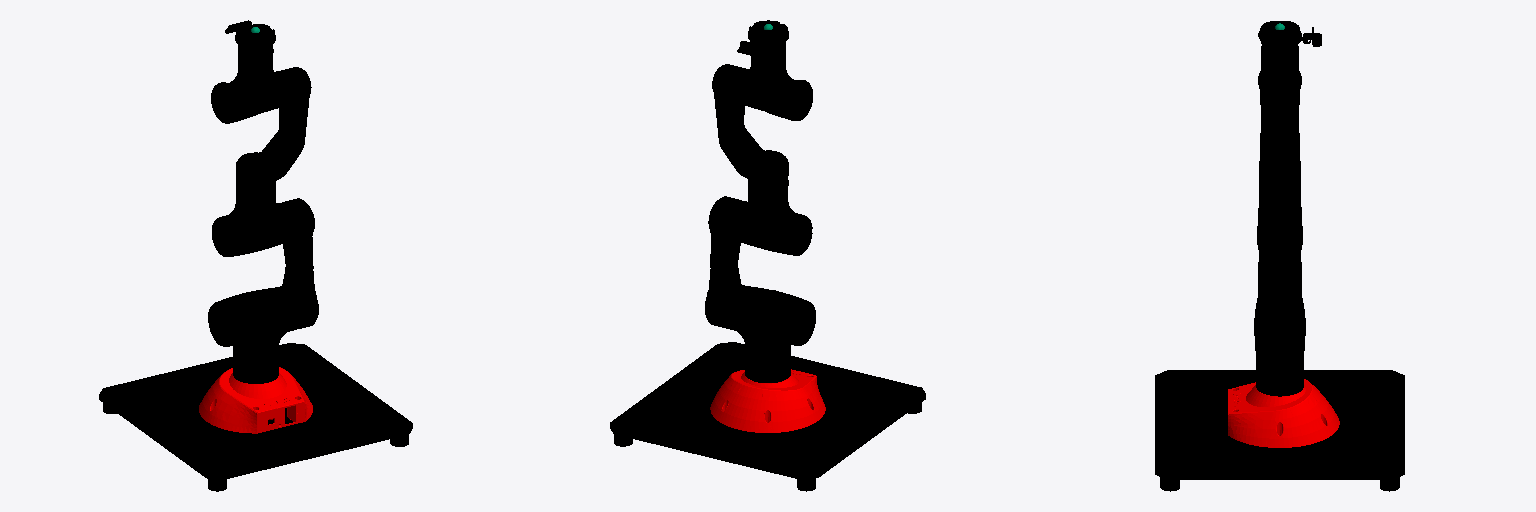
robot.urdf — mara:
<?xml version="1.0" ?>
<!-- =================================================================================== -->
<!-- |    This document was autogenerated by xacro from ros2_mara_ws/src/mara/mara_description/urdf/mara_robot_camera.urdf.xacro | -->
<!-- |    EDITING THIS FILE BY HAND IS NOT RECOMMENDED                                 | -->
<!-- =================================================================================== -->
<robot name="mara" xmlns:xacro="http://ros.org/wiki/xacro">
  <!--
  Author: [author]
-->
  <link name="base_link">
    <inertial>
      <origin rpy="0 0 0" xyz="8.625E-08 -4.6583E-06 0.03145"/>
      <mass value="7.033"/>
      <inertia ixx="0.1478344" ixy="-0.00001" ixz="0.0" iyy="0.14782335" iyz="0.0" izz="0.29471799"/>
    </inertial>
    <visual>
      <origin rpy="0 0 0" xyz="0 0 0"/>
      <geometry>
        <mesh filename="package://mara_description/meshes/Base_plancha.dae" scale="0.001 0.001 0.001"/>
      </geometry>
      <material name="Gazebo/Grey">
        <color rgba="0. 0. 0. 1"/>
      </material>
    </visual>
    <collision>
      <origin rpy="0 0 0" xyz="0 0 0"/>
      <geometry>
        <mesh filename="package://mara_description/meshes/Base_plancha.dae" scale="0.001 0.001 0.001"/>
      </geometry>
    </collision>
  </link>
  <gazebo reference="base_link">
    <material>Gazebo/Grey</material>
    <selfCollide>True</selfCollide>
  </gazebo>
  <link name="base_robot">
    <inertial>
      <origin rpy="0 0 0" xyz="8.625E-08 -4.6583E-06 0.03145"/>
      <mass value="7.033"/>
      <inertia ixx="0.1478344" ixy="0.00001" ixz="0.0" iyy="0.14782335" iyz="0.0" izz="0.29471799"/>
    </inertial>
    <visual>
      <origin rpy="0 0 0" xyz="0 0 0"/>
      <geometry>
        <mesh filename="package://mara_description/meshes/Base.dae" scale="0.001 0.001 0.001"/>
      </geometry>
      <material name="Gazebo/Black">
        <color rgba="1. 0. 0. 1.0"/>
      </material>
    </visual>
    <collision>
      <origin rpy="0 0 0" xyz="0 0 0"/>
      <geometry>
        <mesh filename="package://mara_description/meshes/Base.dae" scale="0.001 0.001 0.001"/>
      </geometry>
    </collision>
  </link>
  <gazebo reference="base_robot">
    <material>Gazebo/Black</material>
    <selfCollide>True</selfCollide>
  </gazebo>
  <link name="motor1_link">
    <inertial>
      <origin rpy="0 0 0" xyz="0.02066 0 0.12051"/>
      <mass value="5.6"/>
      <inertia ixx="0.0200769278" ixy="-7.72273E-006" ixz="0.0050158708" iyy="0.0257088151" iyz="5.49229E-006" izz="0.0120821377"/>
    </inertial>
    <visual>
      <origin rpy="0 0 0" xyz="0 0 0"/>
      <geometry>
        <mesh filename="package://mara_description/meshes/MARA_T49.dae" scale="0.001 0.001 0.001"/>
      </geometry>
      <material name="Gazebo/White">
        <color rgba="0. 0. 0. 1"/>
      </material>
    </visual>
    <collision>
      <origin rpy="0 0 0" xyz="0 0 0"/>
      <geometry>
        <mesh filename="package://mara_description/meshes/MARA_T49.dae" scale="0.001 0.001 0.001"/>
      </geometry>
    </collision>
  </link>
  <gazebo reference="motor1_link">
    <material>Gazebo/White</material>
    <selfCollide>True</selfCollide>
  </gazebo>
  <link name="motor1_cover">
    <inertial>
      <origin rpy="0 0 0" xyz="8.625E-08 -4.6583E-06 0.03145"/>
      <mass value="0.0"/>
      <inertia ixx="0.0" ixy="0.0" ixz="0.0" iyy="0.0" iyz="0.0" izz="0.0"/>
    </inertial>
    <visual>
      <origin rpy="0 0 0" xyz="0 0 0"/>
      <geometry>
        <mesh filename="package://mara_description/meshes/MARA_T49_Black.dae" scale="0.001 0.001 0.001"/>
      </geometry>
      <material name="Gazebo/Black">
        <color rgba="0. 0. 0. 1"/>
      </material>
    </visual>
    <collision>
      <origin rpy="0 0 0" xyz="0 0 0"/>
      <geometry>
        <mesh filename="package://mara_description/meshes/MARA_T49_Black.dae" scale="0.001 0.001 0.001"/>
      </geometry>
    </collision>
  </link>
  <gazebo reference="motor1_cover">
    <material>Gazebo/Black</material>
    <selfCollide>True</selfCollide>
  </gazebo>
  <link name="motor2_link">
    <inertial>
      <origin rpy="0 0 0" xyz="-0.01665 0.0 0.09639"/>
      <mass value="1.236"/>
      <inertia ixx="0.0079614839" ixy="0.000000037" ixz="-0.0003203013" iyy="0.007135338" iyz="-0.000001062" izz="0.001111114"/>
    </inertial>
    <visual>
      <origin rpy="0 0 0" xyz="0 0 0"/>
      <geometry>
        <mesh filename="package://mara_description/meshes/MARA_Link1.dae" scale="0.001 0.001 0.001"/>
      </geometry>
      <material name="Gazebo/Black">
        <color rgba="0. 0. 0. 1"/>
      </material>
    </visual>
    <collision>
      <origin rpy="0 0 0" xyz="0 0 0"/>
      <geometry>
        <mesh filename="package://mara_description/meshes/MARA_Link1.dae" scale="0.001 0.001 0.001"/>
      </geometry>
    </collision>
  </link>
  <gazebo reference="motor2_link">
    <material>Gazebo/Black</material>
    <selfCollide>True</selfCollide>
  </gazebo>
  <link name="motor3_link">
    <inertial>
      <origin rpy="0 0 0" xyz="-0.08963 0.0 0.0403"/>
      <mass value="3.95"/>
      <inertia ixx="0.0115136615" ixy="-1.231046E-005" ixz="-0.003148516" iyy="0.0149841676" iyz="-8.81378E-006" izz="0.0070387807"/>
    </inertial>
    <visual>
      <origin rpy="0 0 0" xyz="0 0 0"/>
      <geometry>
        <mesh filename="package://mara_description/meshes/MARA_T30.dae" scale="0.001 0.001 0.001"/>
      </geometry>
      <material name="Gazebo/White">
        <color rgba="0. 0. 0. 1"/>
      </material>
    </visual>
    <collision>
      <origin rpy="0 0 0" xyz="0 0 0"/>
      <geometry>
        <mesh filename="package://mara_description/meshes/MARA_T30.dae" scale="0.001 0.001 0.001"/>
      </geometry>
    </collision>
  </link>
  <gazebo reference="motor3_link">
    <material>Gazebo/White</material>
    <selfCollide>True</selfCollide>
  </gazebo>
  <link name="motor3_cover">
    <inertial>
      <origin rpy="0 0 0" xyz="8.625E-08 -4.6583E-06 0.03145"/>
      <mass value="0.0"/>
      <inertia ixx="0.0" ixy="0.0" ixz="0.0" iyy="0.0" iyz="0.0" izz="0.0"/>
    </inertial>
    <visual>
      <origin rpy="0 0 0" xyz="0 0 0"/>
      <geometry>
        <mesh filename="package://mara_description/meshes/MARA_T30_Black.dae" scale="0.001 0.001 0.001"/>
      </geometry>
      <material name="Gazebo/Black">
        <color rgba="0. 0. 0. 1"/>
      </material>
    </visual>
    <collision>
      <origin rpy="0 0 0" xyz="0 0 0"/>
      <geometry>
        <mesh filename="package://mara_description/meshes/MARA_T30_Black.dae" scale="0.001 0.001 0.001"/>
      </geometry>
    </collision>
  </link>
  <gazebo reference="motor3_cover">
    <material>Gazebo/Black</material>
    <selfCollide>True</selfCollide>
  </gazebo>
  <link name="motor4_link">
    <inertial>
      <origin rpy="0 0 0" xyz="0.06357 0.0 0.05698"/>
      <mass value="1.258"/>
      <inertia ixx="0.005919676" ixy="0.000000923" ixz="0.0022280208" iyy="0.0068807393" iyz="6.1373E-007" izz="0.00257485"/>
    </inertial>
    <visual>
      <origin rpy="0 0 0" xyz="0 0 0"/>
      <geometry>
        <mesh filename="package://mara_description/meshes/MARA_Link2.dae" scale="0.001 0.001 0.001"/>
      </geometry>
      <material name="Gazebo/Black">
        <color rgba="0. 0. 0. 1"/>
      </material>
    </visual>
    <collision>
      <origin rpy="0 0 0" xyz="0 0 0"/>
      <geometry>
        <mesh filename="package://mara_description/meshes/MARA_Link2.dae" scale="0.001 0.001 0.001"/>
      </geometry>
    </collision>
  </link>
  <gazebo reference="motor4_link">
    <material>Gazebo/Black</material>
    <selfCollide>True</selfCollide>
  </gazebo>
  <link name="motor5_link">
    <inertial>
      <origin rpy="0 0 0" xyz="-0.09105 0.0 0.03676"/>
      <mass value="2.85"/>
      <inertia ixx="0.0072829492" ixy="3.77994E-006" ixz="-0.0015682105" iyy="0.0098263499" iyz="2.52745E-006" izz="0.0045615321"/>
    </inertial>
    <visual>
      <origin rpy="0 0 0" xyz="0 0 0"/>
      <geometry>
        <mesh filename="package://mara_description/meshes/MARA_T5.4.dae" scale="0.001 0.001 0.001"/>
      </geometry>
      <material name="Gazebo/White">
        <color rgba="0. 0. 0. 1"/>
      </material>
    </visual>
    <collision>
      <origin rpy="0 0 0" xyz="0 0 0"/>
      <geometry>
        <mesh filename="package://mara_description/meshes/MARA_T5.4.dae" scale="0.001 0.001 0.001"/>
      </geometry>
    </collision>
  </link>
  <gazebo reference="motor5_link">
    <material>Gazebo/White</material>
    <selfCollide>True</selfCollide>
  </gazebo>
  <link name="motor5_cover">
    <inertial>
      <origin rpy="0 0 0" xyz="8.625E-08 -4.6583E-06 0.03145"/>
      <mass value="0.0"/>
      <inertia ixx="0.0" ixy="0.0" ixz="0.0" iyy="0.0" iyz="0.0" izz="0.0"/>
    </inertial>
    <visual>
      <origin rpy="0 0 0" xyz="0 0 0"/>
      <geometry>
        <mesh filename="package://mara_description/meshes/MARA_T5.4_black.dae" scale="0.001 0.001 0.001"/>
      </geometry>
      <material name="Gazebo/Black">
        <color rgba="0. 0. 0. 1"/>
      </material>
    </visual>
    <collision>
      <origin rpy="0 0 0" xyz="0 0 0"/>
      <geometry>
        <mesh filename="package://mara_description/meshes/MARA_T5.4_black.dae" scale="0.001 0.001 0.001"/>
      </geometry>
    </collision>
  </link>
  <gazebo reference="motor5_cover">
    <material>Gazebo/Black</material>
    <selfCollide>True</selfCollide>
  </gazebo>
  <link name="motor6_link">
    <inertial>
      <origin rpy="0 0 0" xyz="0 0 0"/>
      <mass value="0.00001"/>
      <inertia ixx="0" ixy="0" ixz="0" iyy="0" iyz="0" izz="0"/>
    </inertial>
    <visual>
      <origin rpy="0 0 0" xyz="0 0 0"/>
      <geometry>
        <sphere radius="0.01"/>
      </geometry>
    </visual>
    <collision>
      <origin rpy="0 0 0" xyz="0 0 0"/>
      <geometry>
        <sphere radius="0.01"/>
      </geometry>
    </collision>
  </link>
  <link name="ee_link">
    </link>
  <gazebo reference="ee_link">
    <material>Gazebo/Blue</material>
    <selfCollide>False</selfCollide>
  </gazebo>
  <joint name="joint_bases" type="fixed">
    <origin rpy="0 0 0" xyz="0 0 0.04"/>
    <parent link="base_link"/>
    <child link="base_robot"/>
  </joint>
  <joint name="motor1" type="revolute">
    <origin rpy="0 0 0" xyz="0 0 0.05122"/>
    <parent link="base_robot"/>
    <child link="motor1_link"/>
    <axis xyz="0 0 1"/>
    <limit effort="104.0" lower="-3.1416" upper="3.1416" velocity="1.57"/>
    <dynamics damping="0" friction="0"/>
  </joint>
  <joint name="motor1_cover_joint" type="fixed">
    <origin rpy="0 0 0" xyz="0 0 0.0"/>
    <parent link="motor1_link"/>
    <child link="motor1_cover"/>
  </joint>
  <joint name="motor2" type="revolute">
    <origin rpy="0 0 0" xyz="0.118 0 0.1637"/>
    <parent link="motor1_link"/>
    <child link="motor2_link"/>
    <axis xyz="1 0 0"/>
    <limit effort="104.0" lower="-2.35" upper="2.35" velocity="1.57"/>
    <dynamics damping="0" friction="0"/>
  </joint>
  <joint name="motor3" type="revolute">
    <origin rpy="0 0 0" xyz="-0.009 0 0.2"/>
    <parent link="motor2_link"/>
    <child link="motor3_link"/>
    <axis xyz="-1 0 0"/>
    <limit effort="69" lower="-2.61" upper="2.61" velocity="1.57"/>
    <dynamics damping="0" friction="0"/>
  </joint>
  <joint name="motor3_cover_joint" type="fixed">
    <origin rpy="0 0 0" xyz="0 0 0.0"/>
    <parent link="motor3_link"/>
    <child link="motor3_cover"/>
  </joint>
  <joint name="motor4" type="revolute">
    <origin rpy="0 0 0" xyz="-0.109255 0 0.149255"/>
    <parent link="motor3_link"/>
    <child link="motor4_link"/>
    <axis xyz="0 0 1"/>
    <limit effort="69" lower="-3.14" upper="3.14" velocity="1.57"/>
    <dynamics damping="0" friction="0"/>
  </joint>
  <joint name="motor5" type="revolute">
    <origin rpy="0 0 0" xyz="0.1054570 0 0.16074"/>
    <parent link="motor4_link"/>
    <child link="motor5_link"/>
    <axis xyz="-1 0 0"/>
    <limit effort="34" lower="-2.56" upper="2.56" velocity="1.57"/>
    <dynamics damping="0" friction="0"/>
  </joint>
  <joint name="motor5_cover_joint" type="fixed">
    <origin rpy="0 0 0" xyz="0 0 0.0"/>
    <parent link="motor5_link"/>
    <child link="motor5_cover"/>
  </joint>
  <joint name="motor6" type="revolute">
    <origin rpy="0 0 0" xyz="-0.10625569 0 0.14675569"/>
    <parent link="motor5_link"/>
    <child link="motor6_link"/>
    <axis xyz="0 0 1"/>
    <limit effort="34" lower="-3.14" upper="3.14" velocity="1.57"/>
    <dynamics damping="0" friction="0"/>
  </joint>
  <joint name="ee_link" type="fixed">
    <origin rpy="0 -1.57 0" xyz="0 0.0 0.0"/>
    <!-- 0.24 -->
    <parent link="motor6_link"/>
    <child link="ee_link"/>
  </joint>
  <link name="tool0"/>
  <joint name="motor6_link-tool0_fixed_joint" type="fixed">
    <origin rpy="0 -1.57 0" xyz="0 0.0 0.0"/>
    <parent link="motor6_link"/>
    <child link="tool0"/>
  </joint>
  <transmission name="shoulder_pan_trans">
    <type>transmission_interface/SimpleTransmission</type>
    <joint name="motor1">
      <hardwareInterface>hardware_interface/PositionJointInterface</hardwareInterface>
    </joint>
    <actuator name="shoulder_pan_motor">
      <mechanicalReduction>1</mechanicalReduction>
    </actuator>
  </transmission>
  <transmission name="shoulder_lift_trans">
    <type>transmission_interface/SimpleTransmission</type>
    <joint name="motor2">
      <hardwareInterface>hardware_interface/PositionJointInterface</hardwareInterface>
    </joint>
    <actuator name="shoulder_lift_motor">
      <mechanicalReduction>1</mechanicalReduction>
    </actuator>
  </transmission>
  <transmission name="elbow_trans">
    <type>transmission_interface/SimpleTransmission</type>
    <joint name="motor3">
      <hardwareInterface>hardware_interface/PositionJointInterface</hardwareInterface>
    </joint>
    <actuator name="elbow_motor">
      <mechanicalReduction>1</mechanicalReduction>
    </actuator>
  </transmission>
  <transmission name="wrist_1_trans">
    <type>transmission_interface/SimpleTransmission</type>
    <joint name="motor4">
      <hardwareInterface>hardware_interface/PositionJointInterface</hardwareInterface>
    </joint>
    <actuator name="wrist_1_motor">
      <mechanicalReduction>1</mechanicalReduction>
    </actuator>
  </transmission>
  <transmission name="wrist_2_trans">
    <type>transmission_interface/SimpleTransmission</type>
    <joint name="motor5">
      <hardwareInterface>hardware_interface/PositionJointInterface</hardwareInterface>
    </joint>
    <actuator name="wrist_2_motor">
      <mechanicalReduction>1</mechanicalReduction>
    </actuator>
  </transmission>
  <transmission name="wrist_3_trans">
    <type>transmission_interface/SimpleTransmission</type>
    <joint name="motor6">
      <hardwareInterface>hardware_interface/PositionJointInterface</hardwareInterface>
    </joint>
    <actuator name="wrist_3_motor">
      <mechanicalReduction>1</mechanicalReduction>
    </actuator>
  </transmission>
  <gazebo>
    <plugin filename="libgazebo_ros_joint_state_publisher.so" name="mara_joint_state">
      <ros>
        <argument>~/out:=joint_states</argument>
      </ros>
      <update_rate>25</update_rate>
      <joint_name>motor1</joint_name>
      <joint_name>motor2</joint_name>
      <joint_name>motor3</joint_name>
      <joint_name>motor4</joint_name>
      <joint_name>motor5</joint_name>
      <joint_name>motor6</joint_name>
      <joint_name>joint_finger</joint_name>
    </plugin>
    <plugin filename="libmara_gazebo_joint_plugin.so" name="hrim_actuation_servomotor_000000000001">
      <ros/>
      <axis1>motor2</axis1>
      <axis2>motor1</axis2>
      <type>series14</type>
    </plugin>
    <plugin filename="libmara_gazebo_joint_plugin.so" name="hrim_actuation_servomotor_000000000002">
      <ros/>
      <axis1>motor3</axis1>
      <axis2>motor4</axis2>
      <type>series17</type>
    </plugin>
    <plugin filename="libmara_gazebo_joint_plugin.so" name="hrim_actuation_servomotor_000000000003">
      <ros/>
      <axis1>motor5</axis1>
      <axis2>motor6</axis2>
      <type>series20</type>
    </plugin>
  </gazebo>
  <link name="mara_gripper_adapter">
    <inertial>
      <origin rpy="0 0 0" xyz="8.625E-08 -4.6583E-06 0.03145"/>
      <mass value="0.13969"/>
      <inertia ixx="91283.23E-9" ixy="634.87E-9" ixz="-0.02E-9" iyy="97239.94E-9" iyz="93.72E-9" izz="175963.64E-9"/>
    </inertial>
    <visual>
      <origin rpy="0 0 0" xyz="0 0 0"/>
      <geometry>
        <mesh filename="package://mara_description/meshes/gripper_adapter.dae" scale="0.001 0.001 0.001"/>
      </geometry>
      <material name="Gazebo/Wood">
        <color rgba="0. 0. 0. 1"/>
      </material>
    </visual>
    <collision>
      <origin rpy="0 0 0" xyz="0 0 0"/>
      <geometry>
        <mesh filename="package://mara_description/meshes/gripper_adapter.dae" scale="0.001 0.001 0.001"/>
      </geometry>
    </collision>
  </link>
  <gazebo reference="mara_gripper_adapter">
    <material>Gazebo/Black</material>
    <selfCollide>True</selfCollide>
  </gazebo>
  <link name="mara_camera_support1_link">
    <inertial>
      <origin rpy="0 0 0" xyz="8.625E-08 -4.6583E-06 0.03145"/>
      <mass value="0.00361"/>
      <inertia ixx="266.47E-9" ixy="0.0" ixz="0.0" iyy="115.40E-9" iyz="-0.40E-9" izz="233.53E-9"/>
    </inertial>
    <visual>
      <origin rpy="0 0 0" xyz="0 0 0"/>
      <geometry>
        <mesh filename="package://mara_description/meshes/Camera_Support_1.dae" scale="0.001 0.001 0.001"/>
      </geometry>
      <material name="Gazebo/Wood">
        <color rgba="0. 0. 0. 1"/>
      </material>
    </visual>
    <collision>
      <origin rpy="0 0 0" xyz="0 0 0"/>
      <geometry>
        <mesh filename="package://mara_description/meshes/Camera_Support_1.dae" scale="0.001 0.001 0.001"/>
      </geometry>
    </collision>
  </link>
  <gazebo reference="mara_camera_support1_link">
    <material>Gazebo/Black</material>
    <selfCollide>True</selfCollide>
  </gazebo>
  <link name="mara_camera_support2_link">
    <inertial>
      <origin rpy="0 0 0" xyz="8.625E-08 -4.6583E-06 0.03145"/>
      <mass value="0.00676"/>
      <inertia ixx="584.80E-9" ixy="28.57E-9" ixz="-2.42E-9" iyy="1930.29E-9" iyz="-140.62E-9" izz="2077.50E-9"/>
    </inertial>
    <visual>
      <origin rpy="0 0 0" xyz="0 0 0"/>
      <geometry>
        <mesh filename="package://mara_description/meshes/Camera_Support_2.dae" scale="0.001 0.001 0.001"/>
      </geometry>
      <material name="Gazebo/Wood">
        <color rgba="0. 0. 0. 1"/>
      </material>
    </visual>
    <collision>
      <origin rpy="0 0 0" xyz="0 0 0"/>
      <geometry>
        <mesh filename="package://mara_description/meshes/Camera_Support_2.dae" scale="0.001 0.001 0.001"/>
      </geometry>
    </collision>
  </link>
  <gazebo reference="mara_camera_support2_link">
    <material>Gazebo/Black</material>
    <selfCollide>True</selfCollide>
  </gazebo>
  <joint name="gripper_adapter_to_camera_support1" type="fixed">
    <origin rpy="0 0 0" xyz="0 0.03956 -0.00213"/>
    <parent link="mara_gripper_adapter"/>
    <child link="mara_camera_support1_link"/>
  </joint>
  <joint name="camera_support1_to_support2" type="fixed">
    <origin rpy="0 0 0" xyz="0 0.01029 -0.00128"/>
    <parent link="mara_camera_support1_link"/>
    <child link="mara_camera_support2_link"/>
  </joint>
  <link name="camera_link">
    <inertial>
      <origin rpy="0 0 0" xyz="8.625E-08 -4.6583E-06 0.03145"/>
      <mass value="0.07397"/>
      <inertia ixx="6975.32E-9" ixy="287.18E-9" ixz="25.68E-9" iyy="47975.37E-9" iyz="-25.58E-9" izz="48114.25E-9"/>
    </inertial>
    <visual>
      <origin rpy="0 0 0" xyz="0 0 0"/>
      <geometry>
        <mesh filename="package://mara_description/meshes/Intel_RealSense_Depth_Camera_D435.dae" scale="0.001 0.001 0.001"/>
      </geometry>
      <material name="aluminum">
        <color rgba="0.5 0.5 0.5 1"/>
      </material>
    </visual>
    <collision>
      <origin rpy="0 0 0" xyz="0 0 0"/>
      <geometry>
        <mesh filename="package://mara_description/meshes/Intel_RealSense_Depth_Camera_D435.dae" scale="0.001 0.001 0.001"/>
      </geometry>
    </collision>
  </link>
  <gazebo reference="camera_link">
    <material>Gazebo/Grey</material>
    <selfCollide>True</selfCollide>
  </gazebo>
  <link name="camera_right_depth"/>
  <link name="camera_ir_projector"/>
  <link name="camera_left_depth"/>
  <link name="camera_color"/>
  <gazebo reference="camera_color">
    <sensor name="sensor_camera" type="camera">
      <alwaysOn>true</alwaysOn>
      <visualize>true</visualize>
      <camera>
        <image>
          <width>640</width>
          <height>480</height>
          <format>R8G8B8</format>
        </image>
      </camera>
      <plugin filename="libgazebo_ros_camera.so" name="gazebo_plugins">
        <ros>
          <namespace>rs_camera</namespace>
          <argument>image_raw:=custom_img</argument>
          <argument>camera_info:=custom_info</argument>
        </ros>
        <camera_name>rs_d435</camera_name>
        <frame_name>rs_camera_frame</frame_name>
      </plugin>
    </sensor>
  </gazebo>
  <joint name="camera_to_right_depth" type="fixed">
    <origin rpy="0 0 0" xyz="0.0325 0.024 0.0"/>
    <parent link="camera_link"/>
    <child link="camera_right_depth"/>
  </joint>
  <joint name="camera_to_ir_projector" type="fixed">
    <origin rpy="0 0 0" xyz="0.0115 0.0214 0.0"/>
    <parent link="camera_link"/>
    <child link="camera_ir_projector"/>
  </joint>
  <joint name="camera_to_left_depth" type="fixed">
    <origin rpy="0 0 0" xyz="-0.0175 0.024 0.0"/>
    <parent link="camera_link"/>
    <child link="camera_left_depth"/>
  </joint>
  <joint name="camera_to_color" type="fixed">
    <origin rpy="0.0 0.0 1.57" xyz="-0.0325 0.0214 0.0"/>
    <parent link="camera_link"/>
    <child link="camera_color"/>
  </joint>
  <link name="world"/>
  <joint name="world_to_base_joint" type="fixed">
    <origin rpy="0 0 0" xyz="0 0 0"/>
    <parent link="world"/>
    <child link="base_link"/>
  </joint>
  <joint name="motor6_to_gripper_adapter" type="fixed">
    <origin rpy="0 0 0" xyz="0 0 -0.02026"/>
    <parent link="motor6_link"/>
    <child link="mara_gripper_adapter"/>
  </joint>
  <joint name="camera_support2_to_camera" type="fixed">
    <origin rpy="0 0 0" xyz="0 0.018 0.012"/>
    <parent link="mara_camera_support2_link"/>
    <child link="camera_link"/>
  </joint>
</robot>

--- Render facts (derived) ---
Views: 3 orthographic renders of the robot side by side, from view 1: azimuth 30°, elevation 25°; view 2: azimuth 150°, elevation 25°; view 3: azimuth 270°, elevation 25°.
Model mara with 22 links and 21 joints (6 revolute, 15 fixed), rooted at world, posed every joint at zero.
Visible links, largest first — view 1: base_link, base_robot, motor1_link, motor4_link, motor3_link, motor2_link, motor5_link, motor1_cover, motor5_cover, motor3_cover, mara_gripper_adapter; view 2: base_link, base_robot, motor1_link, motor4_link, motor3_link, motor2_link, motor5_link, motor1_cover, motor3_cover, motor5_cover, mara_gripper_adapter; view 3: base_link, motor2_link, base_robot, motor4_link, motor3_link, motor5_link, motor1_link, mara_gripper_adapter.
Link boxes in pixels (box(x1,y1,x2,y2)): base_link: box(99, 343, 412, 491); base_robot: box(199, 367, 312, 433); motor1_link: box(233, 286, 299, 378); motor4_link: box(236, 67, 311, 184); motor3_link: box(228, 183, 294, 250); motor2_link: box(282, 198, 318, 328); motor5_link: box(230, 28, 291, 113); motor1_cover: box(208, 285, 304, 383); motor5_cover: box(211, 30, 296, 123); motor3_cover: box(212, 179, 298, 256); mara_gripper_adapter: box(235, 24, 275, 50); base_link: box(610, 342, 925, 491); base_robot: box(710, 369, 825, 432); motor1_link: box(724, 284, 790, 378); motor4_link: box(712, 64, 788, 182); motor3_link: box(729, 180, 795, 249); motor2_link: box(705, 196, 741, 327); motor5_link: box(732, 25, 793, 111); motor1_cover: box(719, 283, 815, 382); motor3_cover: box(724, 175, 812, 255); motor5_cover: box(727, 27, 812, 120); mara_gripper_adapter: box(748, 20, 788, 47); base_link: box(1155, 370, 1404, 491); motor2_link: box(1256, 233, 1303, 372); base_robot: box(1228, 379, 1339, 447); motor4_link: box(1259, 95, 1300, 187); motor3_link: box(1257, 186, 1302, 249); motor5_link: box(1260, 25, 1299, 108); motor1_link: box(1254, 311, 1305, 391); mara_gripper_adapter: box(1258, 21, 1301, 48).
Size in the robot's own frame: 0.5 by 0.5 by 0.9217 metres.
Meshes: 14 distinct files referenced, 13 mesh visuals loaded (13 Collada DAE); not drawn: 1 (reference not matched to a file when rendering).
